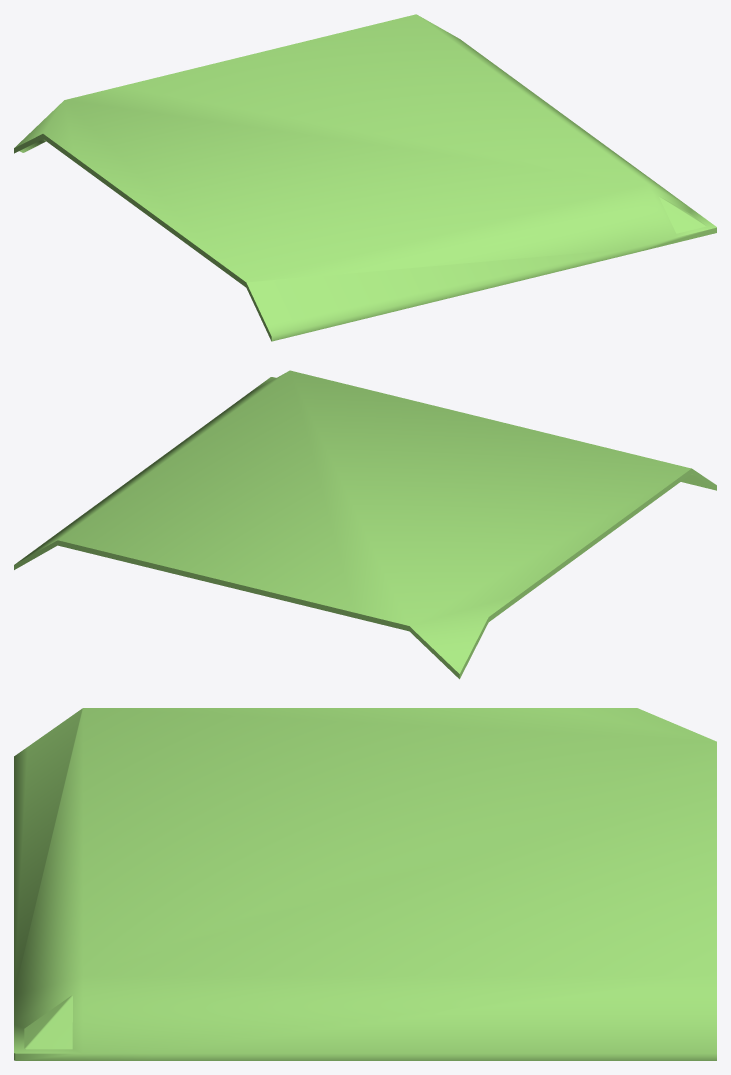
File: Ceiling03.fbx
The picture shows the model from 3 angles, top to bottom: view 1: azimuth 30°, elevation 25°; view 2: azimuth 150°, elevation 25°; view 3: azimuth 270°, elevation 25°; orthographic projection. The views are drawn at different scales.
Visible parts, largest first — view 1: SM_Ceiling03; view 2: SM_Ceiling03; view 3: SM_Ceiling03.
Part boxes in pixels (x1,y1,x2,y2): SM_Ceiling03: (14,14,716,341); SM_Ceiling03: (14,370,716,679); SM_Ceiling03: (14,708,716,1060).
Bounding box in the file's own units: 400 × 35.35 × 400.
